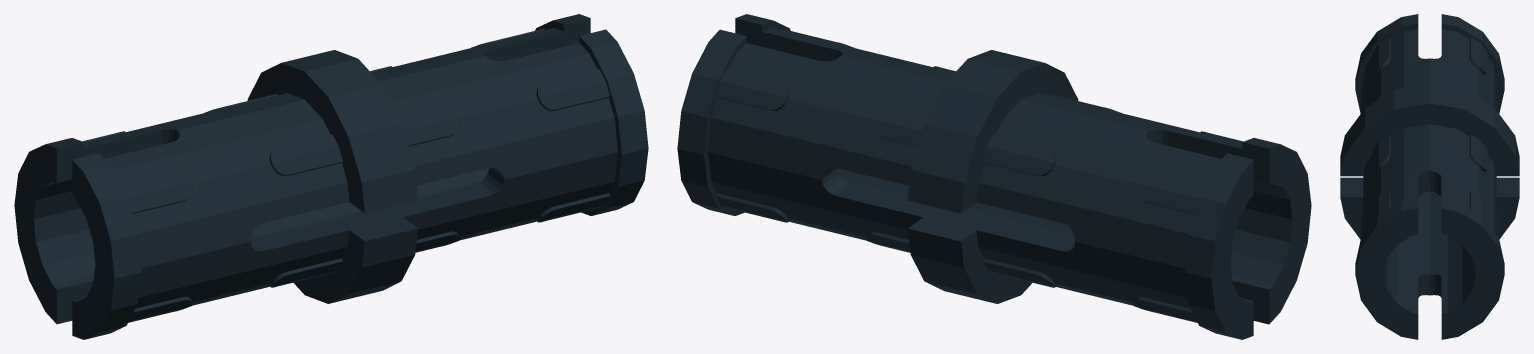
Rendered from peg_friction_2m.obj.
3 renders of one model, left to right at view 1: azimuth 30°, elevation 25°; view 2: azimuth 150°, elevation 25°; view 3: azimuth 270°, elevation 25°, orthographic. The views are drawn at different scales.
Parts seen in each view (by area): view 1: peg_friction_2m; view 2: peg_friction_2m; view 3: peg_friction_2m.
Part boxes in pixels (box(x1,y1,x2,y2)): peg_friction_2m: box(14, 14, 648, 339); peg_friction_2m: box(677, 14, 1311, 339); peg_friction_2m: box(1340, 14, 1519, 339).
Bounding box in the file's own units: 16 × 6.4 × 6.24.
